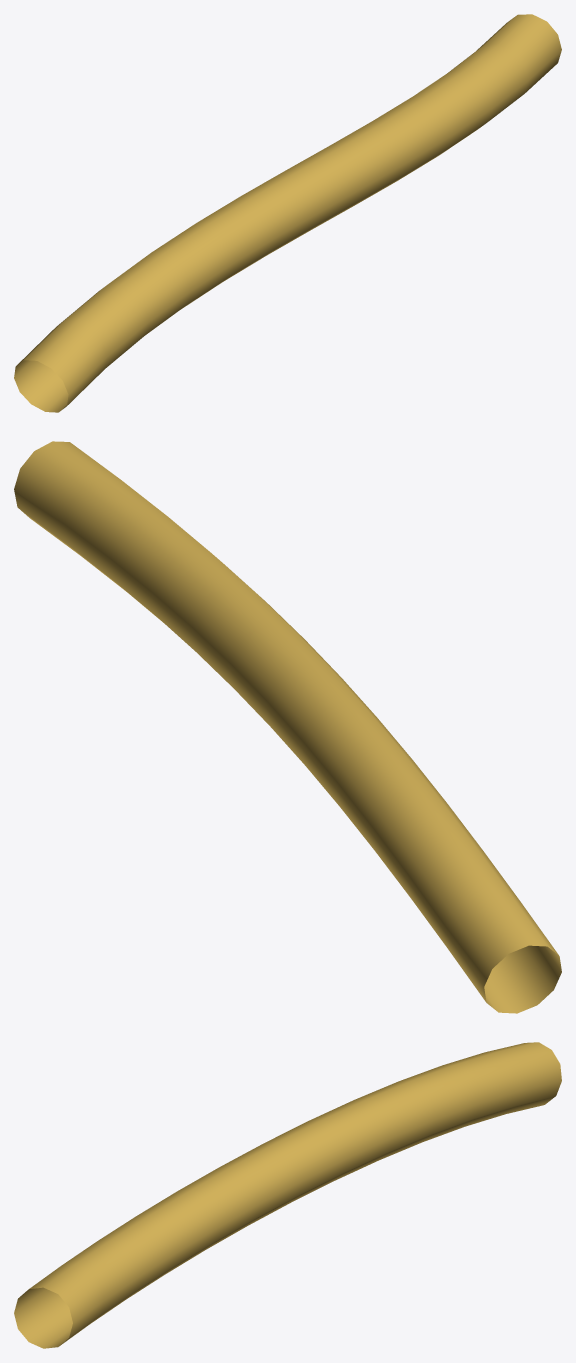
The picture shows the model from 3 angles, top to bottom: view 1: azimuth 90°, elevation 25°; view 2: azimuth 150°, elevation 25°; view 3: azimuth 270°, elevation 25°; orthographic projection. The views are drawn at different scales.
Parts seen in each view (by area): view 1: 右侧臂丛中干; view 2: 右侧臂丛中干; view 3: 右侧臂丛中干.
Boxes of the visible parts, bbox=[...] form: 右侧臂丛中干: bbox=[14, 14, 561, 412]; 右侧臂丛中干: bbox=[14, 441, 561, 1013]; 右侧臂丛中干: bbox=[14, 1042, 561, 1348].
Bounding box in the file's own units: 0.0492 × 0.00804 × 0.037.
